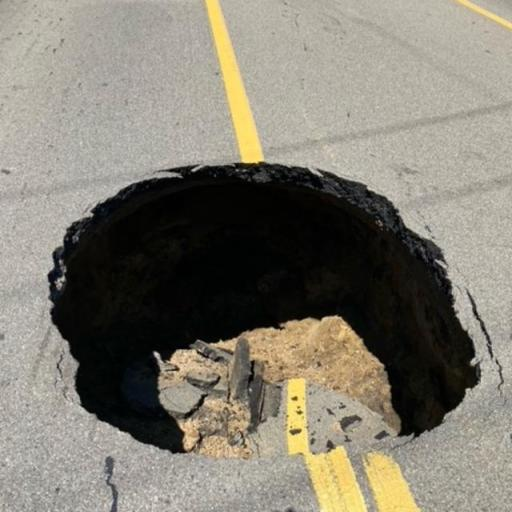Concentric_Crack: (49, 163, 479, 458)
